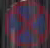No Stopping: (3, 3, 47, 47)
